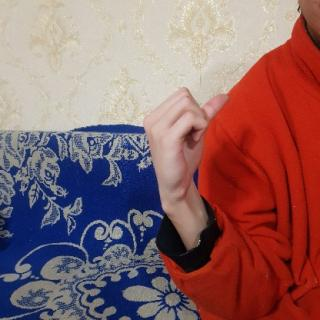WAW: (136, 84, 242, 213)
